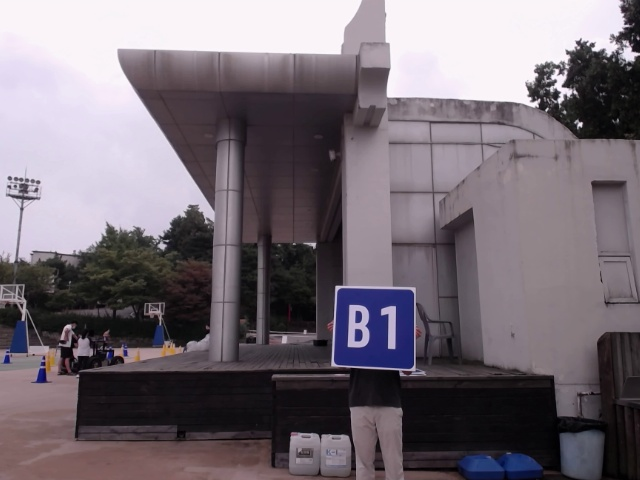delivery_b1: (332, 286, 416, 371)
